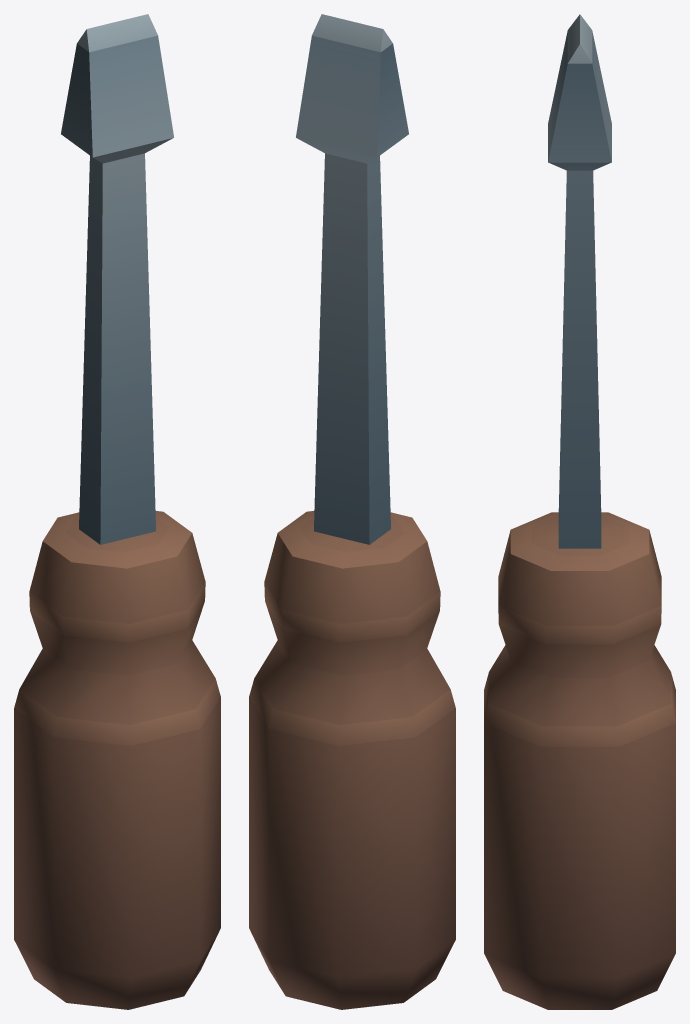
The model's file is screwdriver_A_long.glb.
3 views of the same model, side by side, from view 1: azimuth 30°, elevation 25°; view 2: azimuth 150°, elevation 25°; view 3: azimuth 270°, elevation 25° (orthographic).
Parts seen in each view (by area): view 1: screwdriver_A_long; view 2: screwdriver_A_long; view 3: screwdriver_A_long.
Part boxes in pixels (x1=…): screwdriver_A_long: x1=14, y1=14, x2=220, y2=1009; screwdriver_A_long: x1=249, y1=14, x2=455, y2=1009; screwdriver_A_long: x1=484, y1=14, x2=675, y2=1009.
Size of the model in its own units: 0.1513 by 0.8434 by 0.1513.
1 material, 1 textured.
